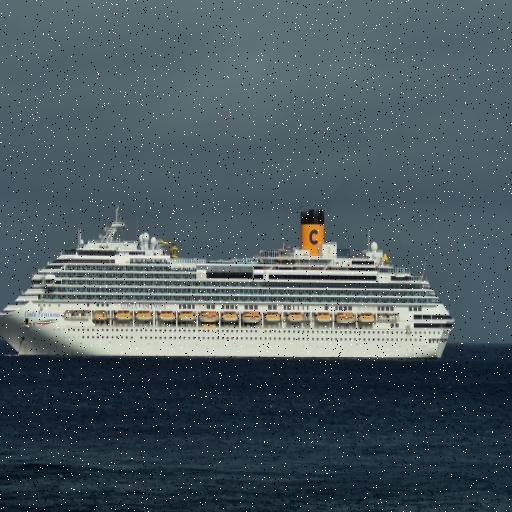cruises: (1, 188, 474, 371)
